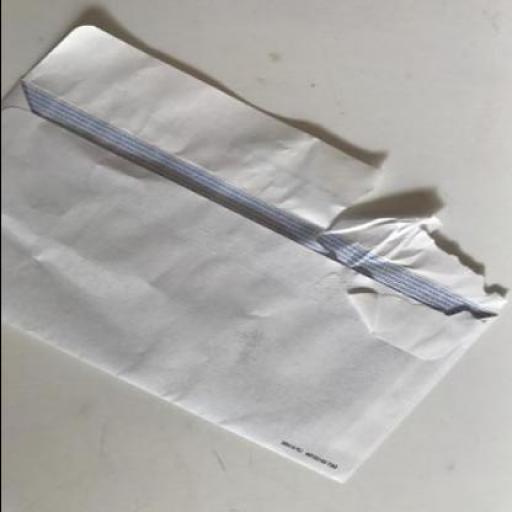paper: (2, 26, 506, 484)
